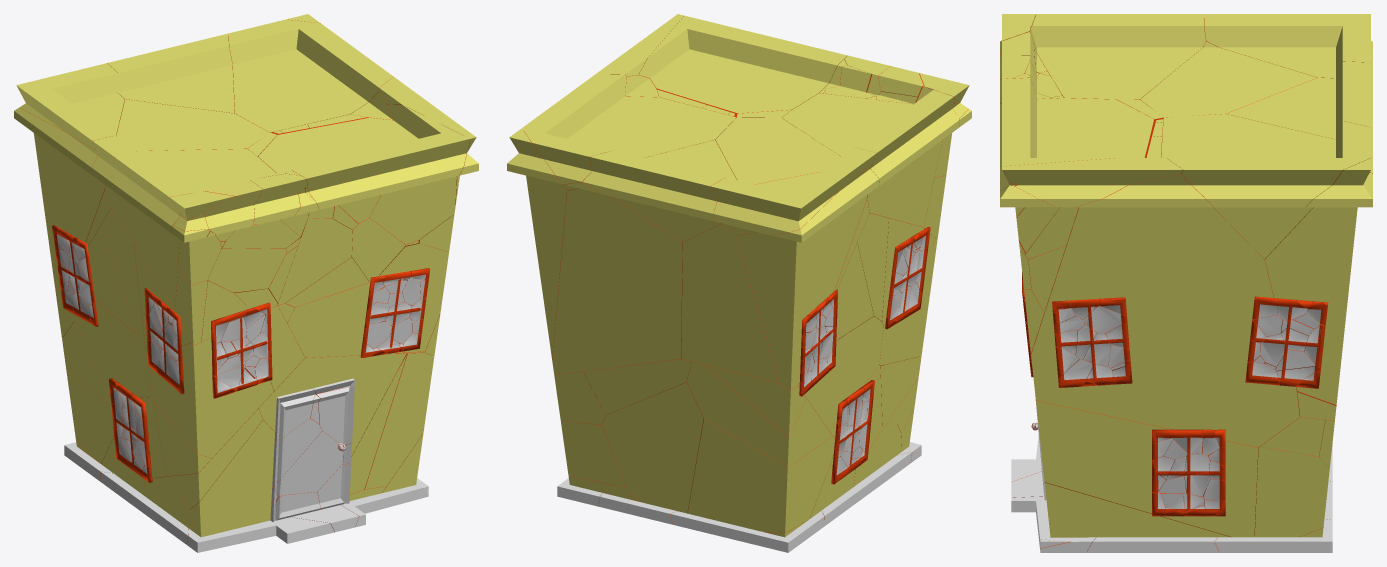
Rendered from YellowBuildingBroken .fbx.
The picture shows the model from 3 angles, left to right: view 1: azimuth 30°, elevation 25°; view 2: azimuth 150°, elevation 25°; view 3: azimuth 270°, elevation 25°; orthographic projection. The views are drawn at different scales.
Visible parts, largest first — view 1: Cube.010_cell.011, Cube.010_cell.004, Cube.010_cell.015, Cube.010_cell.007, Cube.010_cell.013_cell.007, Cube.010_cell.003, Cube.010_cell.016, Cube.010_cell.017, Cube.010_cell.021_cell.002, Cube.010_cell.021_cell.009, Cube.010_cell.021_cell.010, Cube.010_cell.019_cell.017 (+45 smaller); view 2: Cube.010_cell.010, Cube.010_cell.016, Cube.010_cell.011, Cube.010_cell.015, Cube.010_cell.003, Cube.010_cell.004, Cube.010_cell.001_cell.009, Cube.010_cell.007, Cube.010_cell.001_cell, Cube.010_cell.017, Cube.010_cell.001_cell.008, Cube.010_cell.008 (+27 smaller); view 3: Cube.010_cell.014, Cube.010_cell.004, Cube.010_cell.015, Cube.010_cell.008, Cube.010_cell.011, Cube.010_cell.021_cell.010, Cube.010_cell.017, Cube.010_cell.016, Cube.010_cell.007, Cube.010_cell.001_cell.013, Cube.010_cell.002, Cube.010_cell (+35 smaller).
Boxes of the visible parts, <box> form: Cube.010_cell.011: <box>258,104,469,209</box>; Cube.010_cell.004: <box>228,19,393,132</box>; Cube.010_cell.015: <box>91,135,276,309</box>; Cube.010_cell.007: <box>107,33,234,113</box>; Cube.010_cell.013_cell.007: <box>149,337,273,458</box>; Cube.010_cell.003: <box>14,107,105,292</box>; Cube.010_cell.016: <box>85,99,269,246</box>; Cube.010_cell.017: <box>16,63,124,149</box>; Cube.010_cell.021_cell.002: <box>189,420,274,537</box>; Cube.010_cell.021_cell.009: <box>258,353,406,459</box>; Cube.010_cell.021_cell.010: <box>364,352,434,489</box>; Cube.010_cell.019_cell.017: <box>287,282,396,357</box>; Cube.010_cell.010: <box>552,188,682,375</box>; Cube.010_cell.016: <box>680,117,869,383</box>; Cube.010_cell.011: <box>638,15,847,113</box>; Cube.010_cell.015: <box>781,86,959,227</box>; Cube.010_cell.003: <box>735,164,879,390</box>; Cube.010_cell.004: <box>522,74,735,190</box>; Cube.010_cell.001_cell.009: <box>687,418,834,532</box>; Cube.010_cell.007: <box>582,140,736,241</box>; Cube.010_cell.001_cell: <box>602,382,703,513</box>; Cube.010_cell.017: <box>710,147,876,235</box>; Cube.010_cell.001_cell.008: <box>686,362,832,467</box>; Cube.010_cell.008: <box>507,128,567,359</box>; Cube.010_cell.014: <box>1031,174,1299,447</box>; Cube.010_cell.004: <box>1161,114,1372,259</box>; Cube.010_cell.015: <box>1029,14,1206,99</box>; Cube.010_cell.008: <box>1265,158,1372,404</box>; Cube.010_cell.011: <box>1000,78,1153,190</box>; Cube.010_cell.021_cell.010: <box>1036,400,1171,510</box>; Cube.010_cell.017: <box>1204,14,1372,88</box>; Cube.010_cell.016: <box>1140,41,1317,117</box>; Cube.010_cell.007: <box>1226,61,1372,158</box>; Cube.010_cell.001_cell.013: <box>1254,446,1329,537</box>; Cube.010_cell.002: <box>1002,158,1182,207</box>; Cube.010_cell: <box>1044,482,1230,537</box>.
Size of the model in its own units: 276 by 327 by 276.
